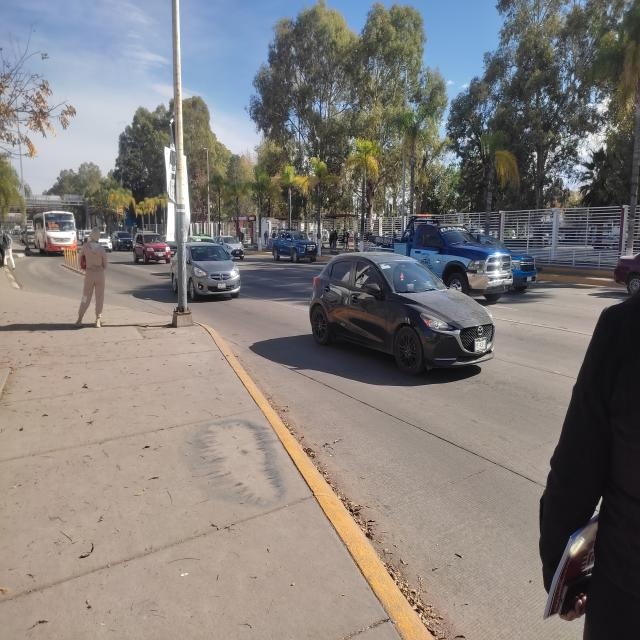Auto: (303, 232, 507, 391), (374, 210, 522, 318), (159, 220, 253, 321), (118, 220, 174, 273), (255, 232, 324, 270)
Autobus: (23, 196, 84, 258)
